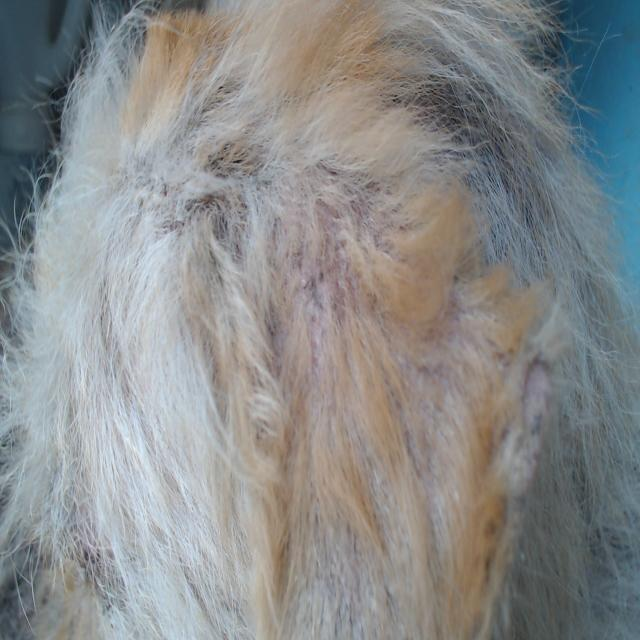demodicosis: (290, 192, 405, 378), (493, 342, 564, 442)
